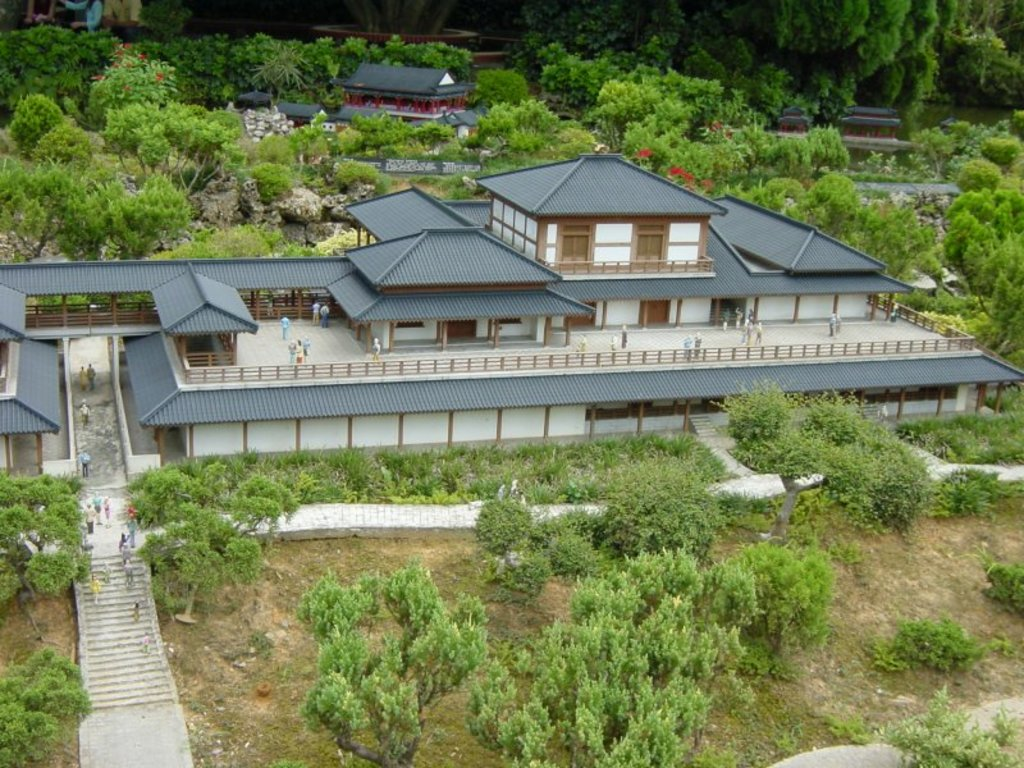Tree: (0, 0, 1022, 766), (784, 403, 990, 536)
